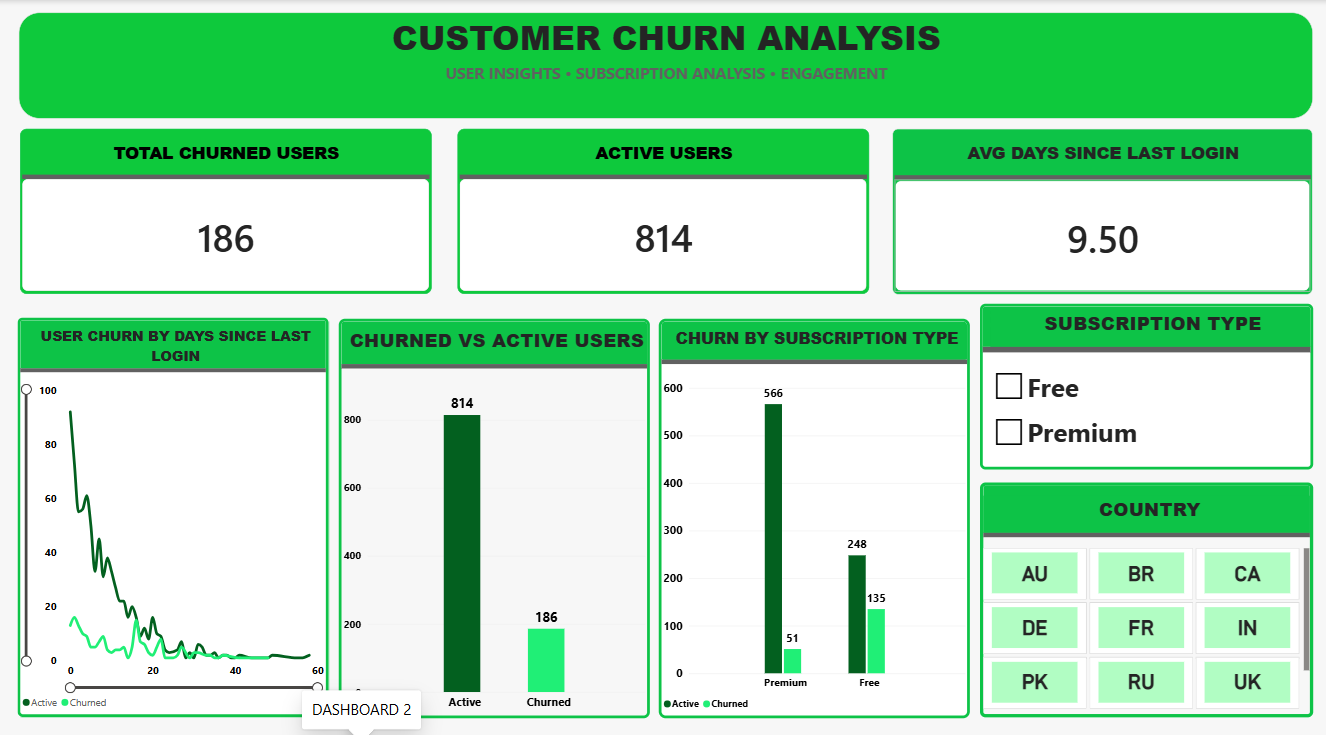

What the dashboard file says about the page in this screenshot:
{"tool":"powerbi","page":{"name":"DASHBOARD 2","canvas":[1920,1080],"ordinal":1},"visuals":[{"type":"cardVisual","title":"TOTAL CHURNED USERS","fields":{"Data":["CountNonNull(spotify_churn_dataset.USER_ID)1"]},"box":[28.3,187,595.7,239.1],"z":0},{"type":"clusteredColumnChart","title":"CHURN BY SUBSCRIPTION TYPE","fields":{"Category":["spotify_churn_dataset.SUBSCRIPTION_TYPE"],"Series":["spotify_churn_dataset.Churn Status"],"Y":["CountNonNull(spotify_churn_dataset.USER_ID)"]},"box":[954,462,450,578],"z":1000},{"type":"clusteredColumnChart","title":"CHURNED VS ACTIVE USERS","fields":{"Category":["spotify_churn_dataset.Churn Status"],"Y":["CountNonNull(spotify_churn_dataset.USER_ID)"]},"box":[490,462,450,578],"z":2000},{"type":"textbox","title":"CUSTOMER CHURN ANALYSIS","box":[26.7,17.8,1873.7,153.5],"z":3000},{"type":"advancedSlicerVisual","fields":{"Values":["spotify_churn_dataset.COUNTRY"]},"box":[1418,698,482,340],"z":4000},{"type":"slicer","title":"SUBSCRIPTION TYPE","fields":{"Values":["spotify_churn_dataset.SUBSCRIPTION_TYPE"]},"box":[1418,440,482,240],"z":5000},{"type":"cardVisual","title":"AVG DAYS SINCE LAST LOGIN","fields":{"Data":["Avg(spotify_churn_dataset.DAYS_SINCE_LAST_LOGIN)"]},"box":[1292,186,608,240],"z":6000},{"type":"lineChart","title":"USER CHURN BY DAYS SINCE LAST LOGIN","fields":{"Category":["spotify_churn_dataset.DAYS_SINCE_LAST_LOGIN"],"Series":["spotify_churn_dataset.Churn Status"],"Y":["CountNonNull(spotify_churn_dataset.USER_ID)"]},"box":[26,460,450,578],"z":7000},{"type":"cardVisual","title":"ACTIVE USERS","fields":{"Data":["CountNonNull(spotify_churn_dataset.USER_ID)1"]},"box":[662,186,595.7,239.1],"z":8000}]}

Visuals, with their boxes in screenshot pixels (x1, y1, x2, y2), scaled from the page's 1920x1080 canvas onto the 1326x735 screenshot:
"TOTAL CHURNED USERS" cardVisual: detection(20, 127, 431, 290)
"CHURN BY SUBSCRIPTION TYPE" clusteredColumnChart: detection(659, 314, 970, 708)
"CHURNED VS ACTIVE USERS" clusteredColumnChart: detection(338, 314, 649, 708)
"CUSTOMER CHURN ANALYSIS" textbox: detection(18, 12, 1312, 117)
advancedSlicerVisual - spotify_churn_dataset.COUNTRY: detection(979, 475, 1312, 706)
"SUBSCRIPTION TYPE" slicer: detection(979, 299, 1312, 463)
"AVG DAYS SINCE LAST LOGIN" cardVisual: detection(892, 127, 1312, 290)
"USER CHURN BY DAYS SINCE LAST LOGIN" lineChart: detection(18, 313, 329, 706)
"ACTIVE USERS" cardVisual: detection(457, 127, 869, 289)
